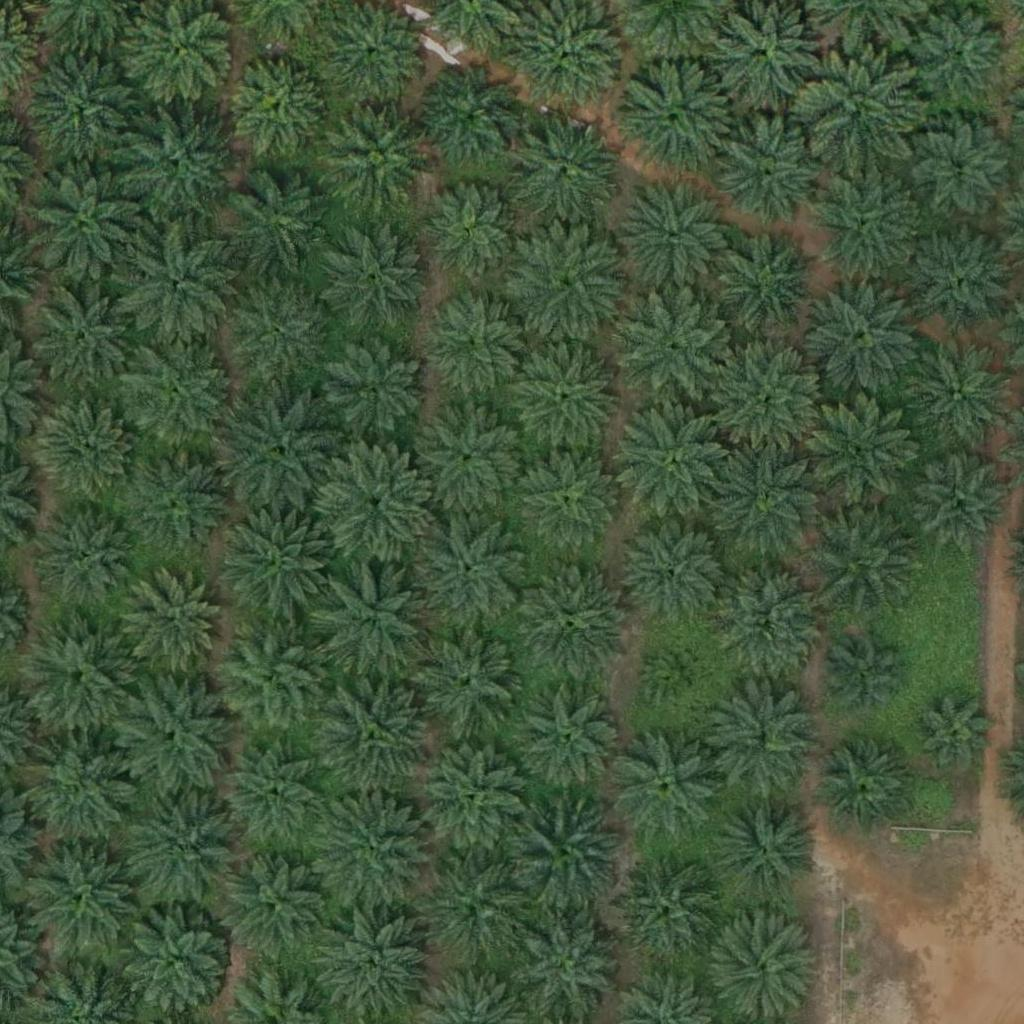Kelapa_Sawit: (712, 563, 825, 677), (618, 404, 731, 518), (224, 164, 337, 278), (213, 620, 326, 734), (318, 678, 431, 792), (318, 796, 431, 910), (417, 852, 530, 966), (621, 57, 734, 170), (803, 53, 916, 166), (900, 333, 1013, 446), (716, 344, 829, 457), (710, 439, 823, 552), (617, 179, 730, 292), (621, 295, 734, 408), (508, 114, 621, 227), (513, 228, 626, 341), (320, 447, 433, 560), (317, 559, 430, 672), (221, 277, 334, 390), (226, 396, 339, 509), (219, 508, 332, 621), (121, 108, 234, 221), (123, 230, 236, 343), (23, 841, 136, 954), (314, 909, 427, 1022), (610, 730, 723, 843), (607, 852, 720, 965), (706, 687, 819, 800), (710, 791, 823, 904), (318, 99, 430, 213), (514, 342, 626, 456), (317, 223, 429, 337), (419, 742, 531, 856), (511, 907, 623, 1021), (31, 48, 143, 161), (809, 170, 921, 283), (806, 281, 918, 394), (811, 393, 923, 506), (810, 500, 922, 613), (716, 115, 828, 228), (516, 568, 628, 681), (415, 405, 527, 518), (419, 515, 531, 628), (124, 336, 236, 449), (122, 449, 234, 562), (29, 167, 141, 280), (26, 278, 138, 391), (19, 619, 131, 732), (22, 735, 134, 848), (121, 679, 233, 792), (127, 791, 239, 904), (121, 903, 233, 1016), (220, 846, 332, 959), (413, 624, 525, 737), (511, 800, 623, 913), (419, 65, 519, 166), (909, 3, 1009, 104), (911, 122, 1011, 223), (911, 226, 1011, 327), (912, 453, 1012, 554), (721, 232, 821, 333), (125, 568, 225, 669), (33, 400, 133, 501), (38, 506, 138, 607), (521, 689, 621, 790), (229, 57, 329, 157), (626, 521, 726, 621), (519, 452, 619, 552), (420, 184, 520, 284), (425, 298, 525, 398), (328, 342, 428, 442), (224, 747, 324, 847), (821, 743, 909, 832), (830, 643, 905, 719), (916, 694, 991, 769), (647, 646, 709, 709)
